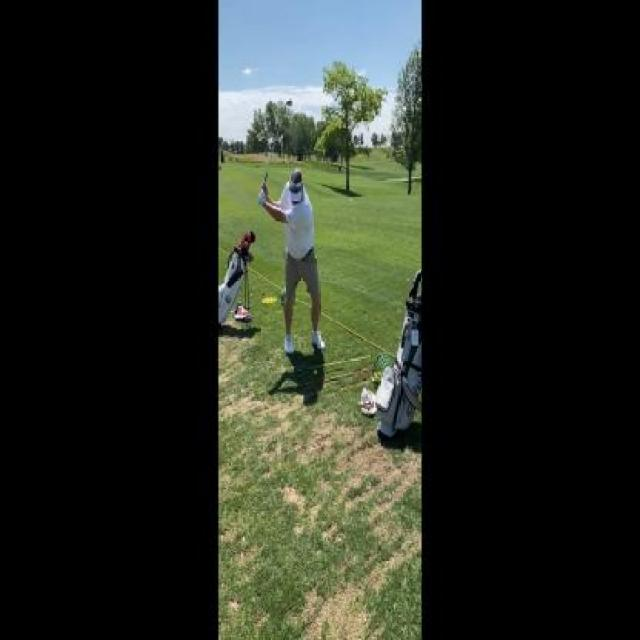club head: (281, 94, 294, 114)
